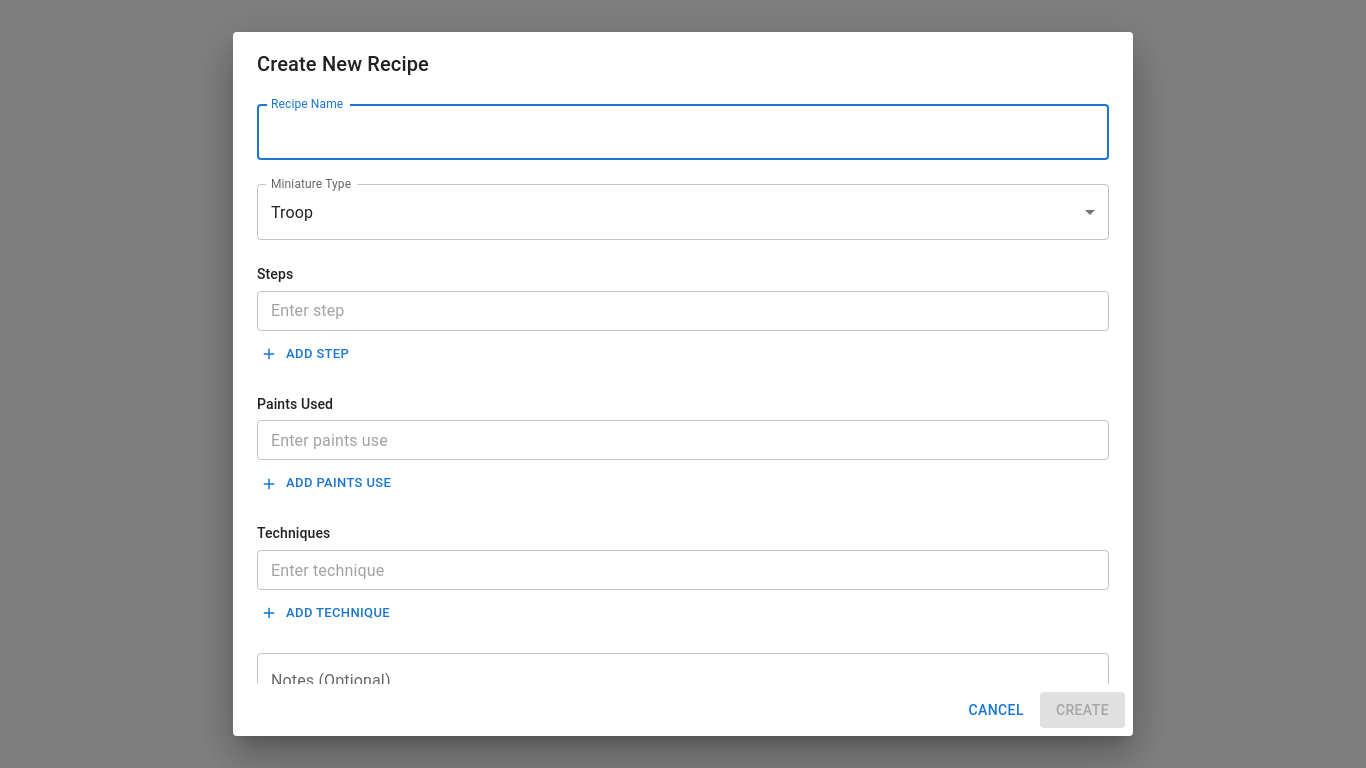
Test case: RecipeForm › allows adding and removing steps
Expected: the number of fields with placeholder "Enter step" is 1, [257, 291, 1109, 331]
// Add a step
Click the button "Add Step" at (306, 354), box [257, 339, 354, 370]
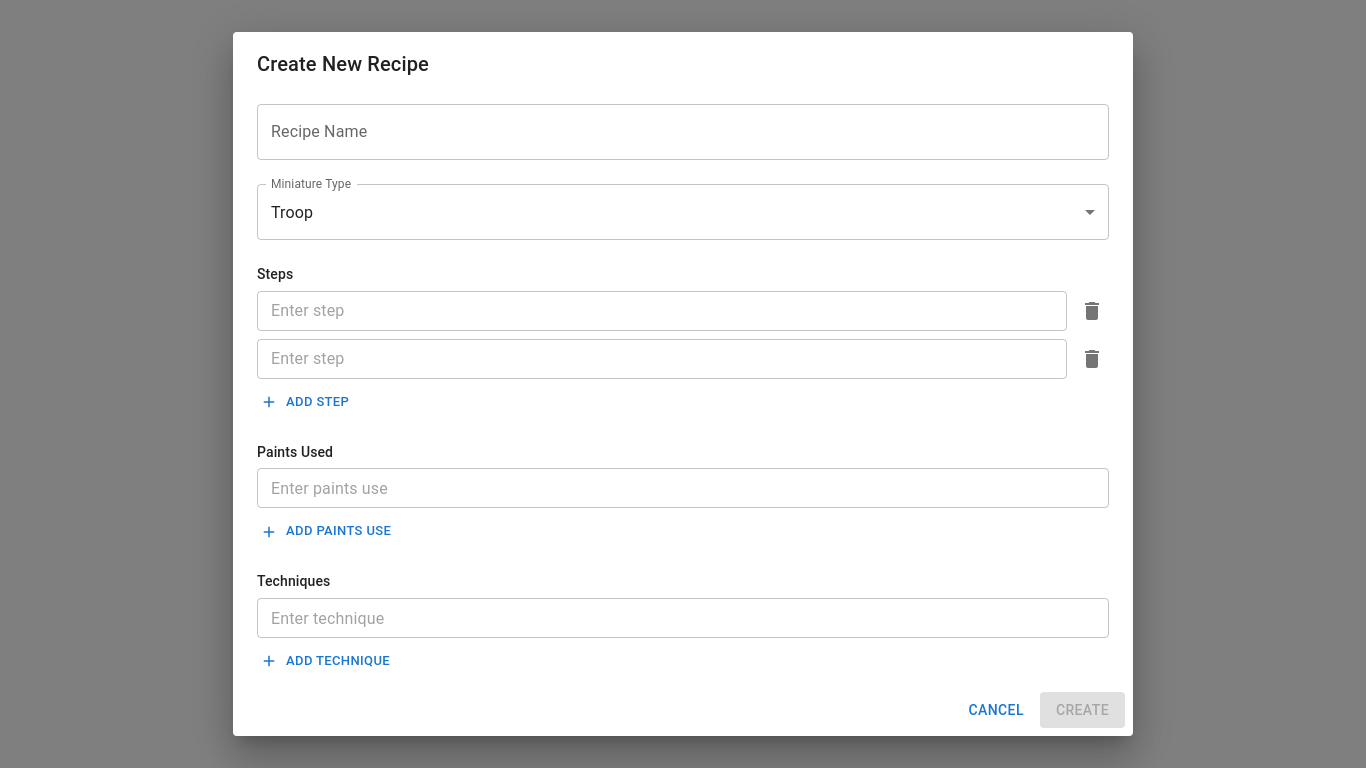
Expected: the number of fields with placeholder "Enter step" is 2, [257, 291, 1067, 331]; [257, 339, 1067, 379]
Click the 1st button at (1092, 311), box [1075, 294, 1109, 328]
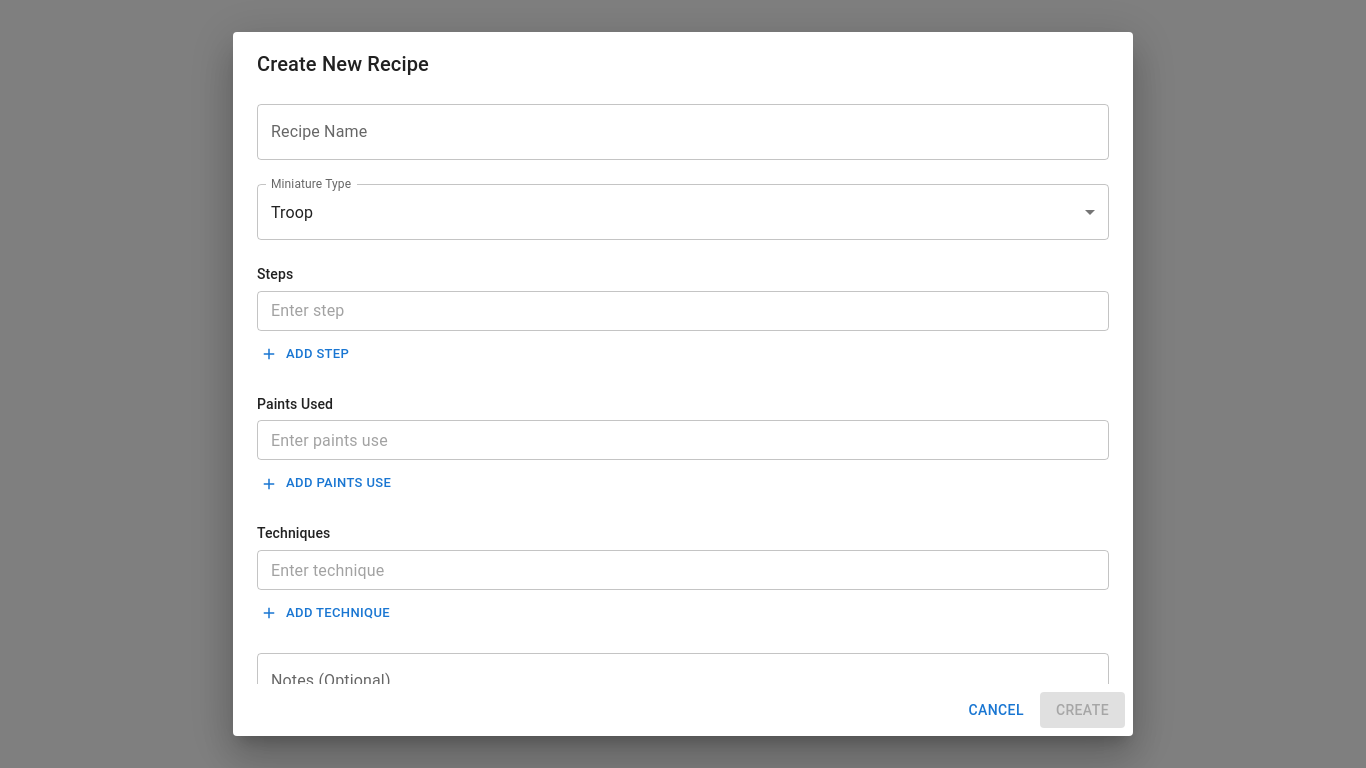
Expected: the number of fields with placeholder "Enter step" is 1, [257, 291, 1109, 331]
